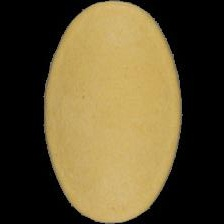45865-622: (0, 0, 224, 224)
